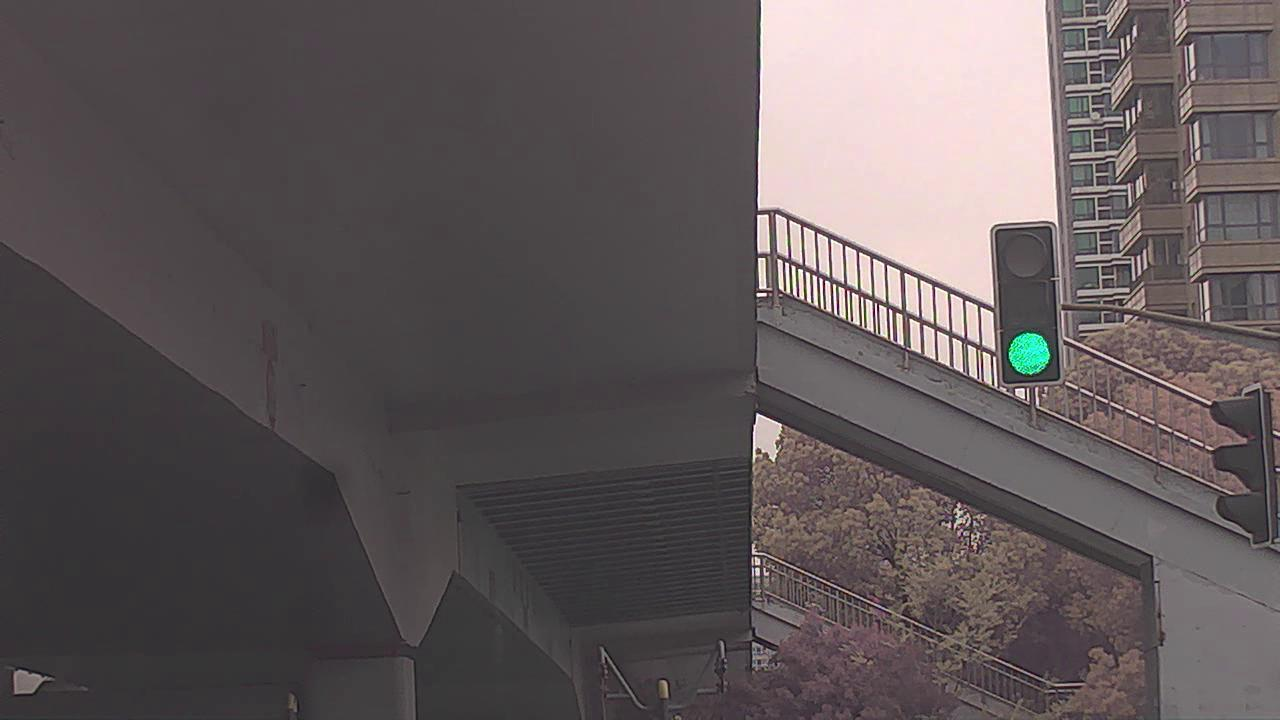traffic_light: (993, 226, 1059, 383)
